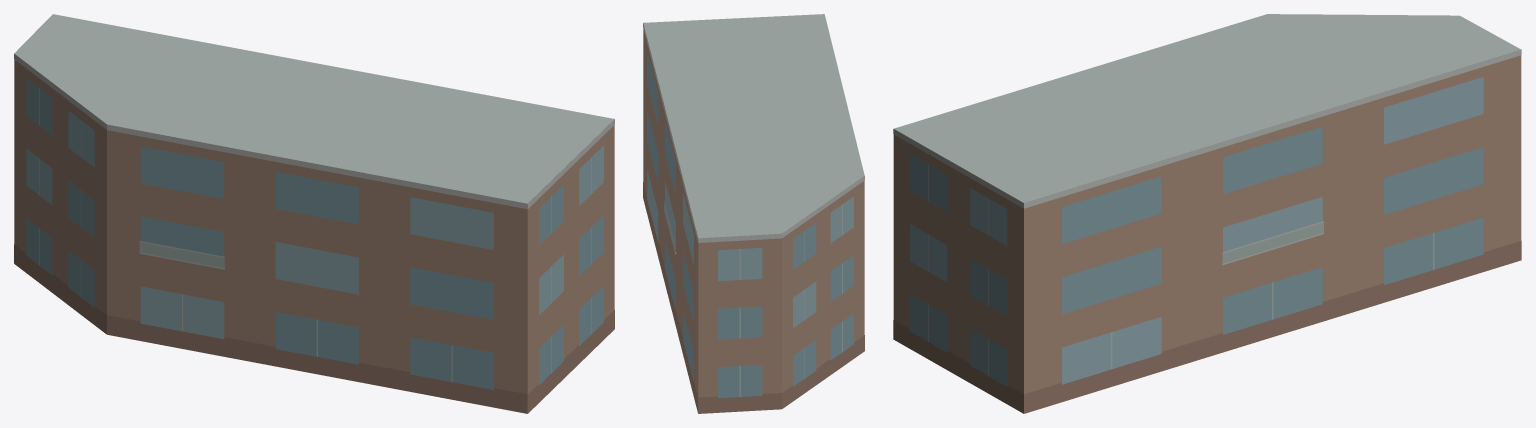
File: survey-upis-32583239.glb
3 views of the same model, side by side, from view 1: azimuth 30°, elevation 25°; view 2: azimuth 150°, elevation 25°; view 3: azimuth 270°, elevation 25° (orthographic). The views are drawn at different scales.
Parts seen in each view (by area): view 1: survey-upis-32583239.tmp; view 2: survey-upis-32583239.tmp; view 3: survey-upis-32583239.tmp.
Part boxes in pixels (x1=…): survey-upis-32583239.tmp: x1=14, y1=14, x2=614, y2=413; survey-upis-32583239.tmp: x1=643, y1=14, x2=864, y2=413; survey-upis-32583239.tmp: x1=893, y1=14, x2=1521, y2=413.
Bounding box in the file's own units: 17.62 × 9.15 × 24.71.
